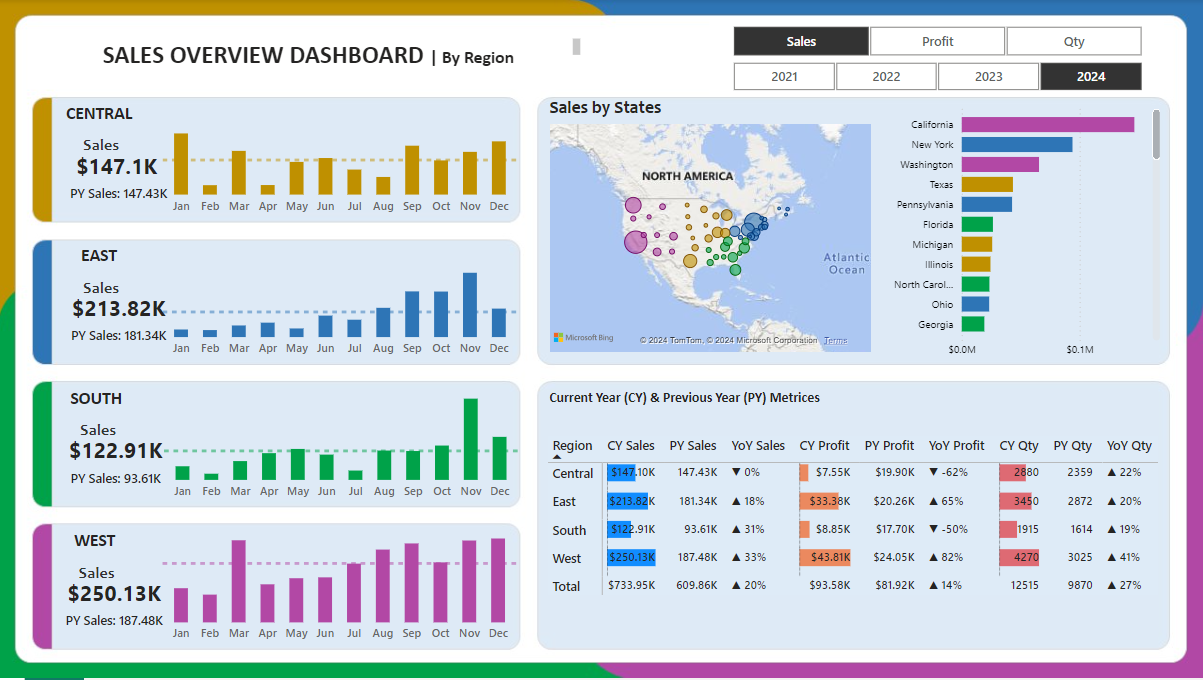

The dashboard page shown, as its layout file describes it:
{"tool":"powerbi","page":{"name":"Page 1","canvas":[1280,720],"ordinal":0},"visuals":[{"type":"slicer","fields":{"Values":["Select Metric.Select Metric"]},"box":[755.5,22.3,482,44.5],"z":0},{"type":"card","fields":{"Values":["Sales Data.Total Sales"]},"box":[56,156,142,43],"z":0,"group":"g1"},{"type":"card","fields":{"Values":["Sales Data.Total Sales"]},"box":[60.9,307.6,136.8,42.9],"z":0,"group":"g2"},{"type":"card","fields":{"Values":["Sales Data.Total Sales"]},"box":[56.9,458.6,136.8,42.9],"z":0,"group":"g3"},{"type":"card","fields":{"Values":["Sales Data.Total Sales"]},"box":[55.9,609.6,136.8,42.9],"z":0,"group":"g4"},{"type":"slicer","fields":{"Values":["Calendar Table.Year"]},"box":[755.5,60.4,482,42.9],"z":1000},{"type":"textbox","box":[47.8,103.4,120.9,41.4],"z":1000,"group":"g1"},{"type":"textbox","box":[48.2,255.1,120.9,41.4],"z":1000,"group":"g2"},{"type":"textbox","box":[44.2,406.1,120.9,41.4],"z":1000,"group":"g3"},{"type":"textbox","box":[43.2,557.1,120.9,41.4],"z":1000,"group":"g4"},{"type":"textbox","box":[44.6,36.5,579.2,44.6],"z":2000},{"type":"card","fields":{"Values":["Select Metric.Dynamic Title"]},"box":[70.9,135.7,77,40.5],"z":2000,"group":"g1"},{"type":"card","fields":{"Values":["Select Metric.Dynamic Title"]},"box":[71.3,287.4,77,40.5],"z":2000,"group":"g2"},{"type":"card","fields":{"Values":["Select Metric.Dynamic Title"]},"box":[67.3,438.4,77,40.5],"z":2000,"group":"g3"},{"type":"card","fields":{"Values":["Select Metric.Dynamic Title"]},"box":[66.3,589.4,77,40.5],"z":2000,"group":"g4"},{"type":"group","id":"g1","title":"Group 1","box":[44.6,103.3,512.4,133.7],"z":3000},{"type":"card","fields":{"Values":["Sales Data.PY KPI Sales"]},"box":[44.6,178.2,168.1,58.7],"z":3000,"group":"g1"},{"type":"card","fields":{"Values":["Sales Data.PY KPI Sales"]},"box":[45,329.9,168.1,58.7],"z":3000,"group":"g2"},{"type":"card","fields":{"Values":["Sales Data.PY KPI Sales"]},"box":[41,480.9,168.1,58.7],"z":3000,"group":"g3"},{"type":"card","fields":{"Values":["Sales Data.PY KPI Sales"]},"box":[40,631.9,168.1,58.7],"z":3000,"group":"g4"},{"type":"clusteredColumnChart","fields":{"Y":["Sales Data.Total Sales"],"Category":["Calendar Table.Month"]},"box":[170.2,103.3,386.8,133.7],"z":4000,"group":"g1"},{"type":"group","id":"g2","title":"Group 1","box":[45,255,512,134],"z":4000},{"type":"clusteredColumnChart","fields":{"Y":["Sales Data.Total Sales"],"Category":["Calendar Table.Month"]},"box":[170.6,255,386.8,133.7],"z":4000,"group":"g2"},{"type":"clusteredColumnChart","fields":{"Y":["Sales Data.Total Sales"],"Category":["Calendar Table.Month"]},"box":[172,406,386,134],"z":4000,"group":"g3"},{"type":"clusteredColumnChart","fields":{"Y":["Sales Data.Total Sales"],"Category":["Calendar Table.Month"]},"box":[171,557,386,134],"z":4000,"group":"g4"},{"type":"group","id":"g3","title":"Group 1","box":[41,406,517,134],"z":5000},{"type":"group","id":"g4","title":"Group 1","box":[40,557,517,134],"z":6000},{"type":"map","fields":{"Size":["Sales Data.Total Sales"],"Category":["Sales Data.State/Province"],"Series":["Sales Data.Region"]},"box":[581.2,103.8,351.2,275],"z":7000},{"type":"barChart","fields":{"Y":["Sales Data.Total Sales"],"Category":["Sales Data.State/Province"],"Series":["Sales Data.Region"]},"box":[933,103.4,304.5,285.2],"z":8000},{"type":"pivotTable","fields":{"Rows":["Sales Data.Region"],"Values":["Sales Data.CY Sales","Sales Data.PY Sales","Sales Data.YoY Sales","Sales Data.CY Profit","Sales Data.PY Profit","Sales Data.YoY Profit","Sales Data.CY Qty","Sales Data.PY Qty","Sales Data.YoY Qty"]},"box":[579.2,457.7,658.2,220.8],"z":9000},{"type":"textbox","box":[581.3,407.1,328.1,50.6],"z":10000}]}

Visuals, with their boxes in screenshot pixels (x1, y1, x2, y2), scaled from the page's 1280x720 canvas onto the 1203x680 screenshot:
slicer - Select Metric.Select Metric: 710/21/1163/63
card - Sales Data.Total Sales: 53/147/186/188
card - Sales Data.Total Sales: 57/291/186/331
card - Sales Data.Total Sales: 53/433/182/474
card - Sales Data.Total Sales: 53/576/181/616
slicer - Calendar Table.Year: 710/57/1163/98
textbox: 45/98/159/137
textbox: 45/241/159/280
textbox: 42/384/155/423
textbox: 41/526/154/565
textbox: 42/34/586/77
card - Select Metric.Dynamic Title: 67/128/139/166
card - Select Metric.Dynamic Title: 67/271/139/310
card - Select Metric.Dynamic Title: 63/414/136/452
card - Select Metric.Dynamic Title: 62/557/135/595
"Group 1" group: 42/98/523/224
card - Sales Data.PY KPI Sales: 42/168/200/224
card - Sales Data.PY KPI Sales: 42/312/200/367
card - Sales Data.PY KPI Sales: 39/454/197/510
card - Sales Data.PY KPI Sales: 38/597/196/652
clusteredColumnChart - Sales Data.Total Sales x Calendar Table.Month: 160/98/523/224
"Group 1" group: 42/241/523/367
clusteredColumnChart - Sales Data.Total Sales x Calendar Table.Month: 160/241/524/367
clusteredColumnChart - Sales Data.Total Sales x Calendar Table.Month: 162/383/524/510
clusteredColumnChart - Sales Data.Total Sales x Calendar Table.Month: 161/526/523/653
"Group 1" group: 39/383/524/510
"Group 1" group: 38/526/523/653
map - Sales Data.Total Sales x Sales Data.State/Province: 546/98/876/358
barChart - Sales Data.Total Sales x Sales Data.State/Province: 877/98/1163/367
pivotTable - Sales Data.Region x Sales Data.CY Sales: 544/432/1163/641
textbox: 546/384/855/432
